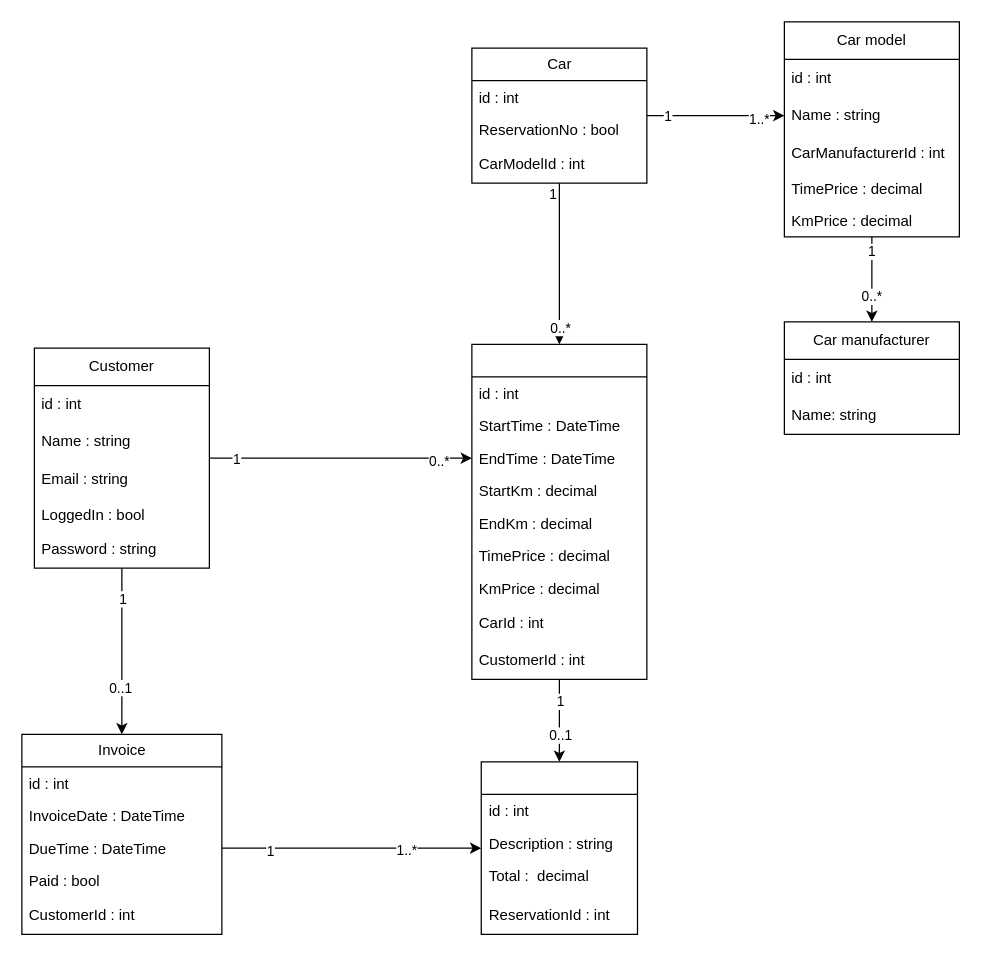
Some shapes in this 981 by 956 pixel diagram are drawn without their labels. Here are the shapes that lost their labels. From the top down, the box of each, then its label:
(471, 343, 647, 679): Reservation
(480, 761, 638, 934): InvoiceLine
